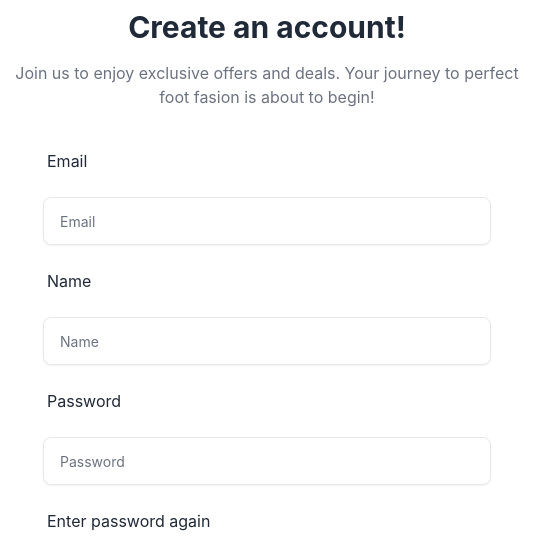
Test: Signup › email field should show error message if › clicked and empty
Click the field labelled "Email" at (267, 221), box top-left (43, 197), bottom-right (491, 245)
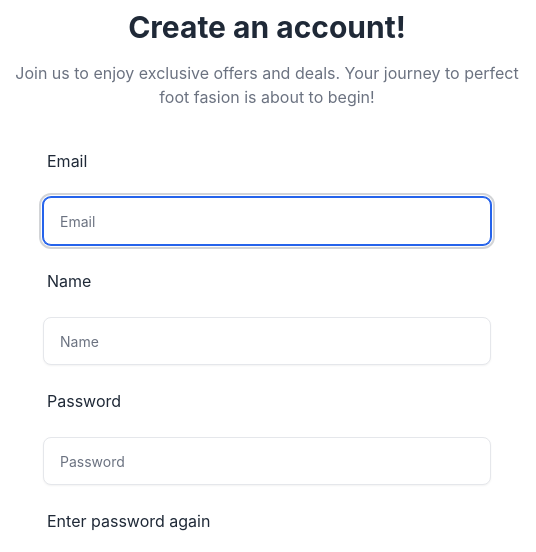
Click the password field labelled "Password" at (267, 461), box top-left (43, 437), bottom-right (491, 485)
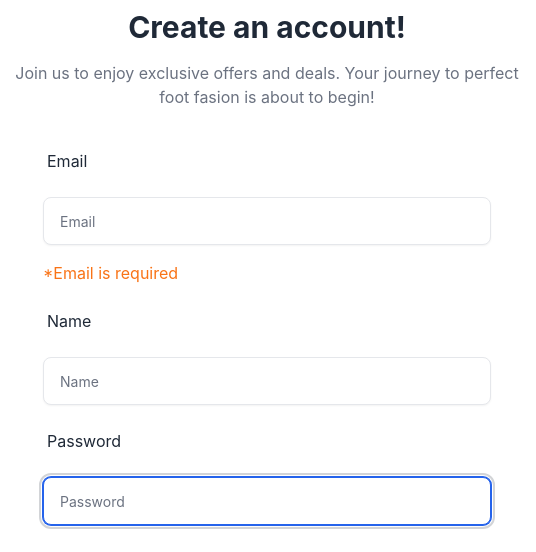
Expected: the text "*Email is required" is shown, top-left (43, 263), bottom-right (178, 283)
